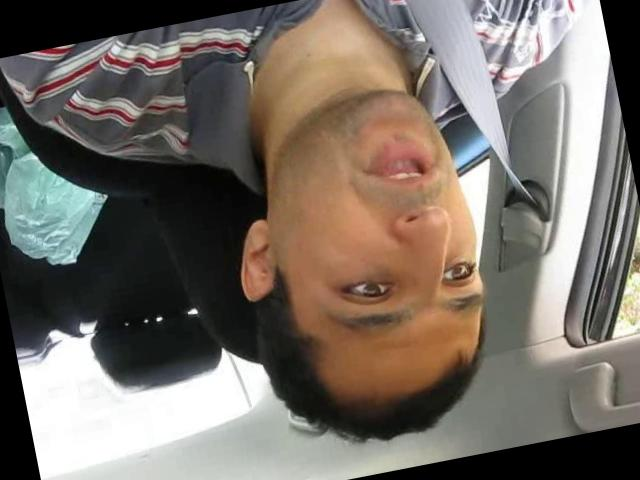eye_open: (329, 264, 404, 316), (438, 255, 482, 292)
face: (267, 73, 510, 364)
